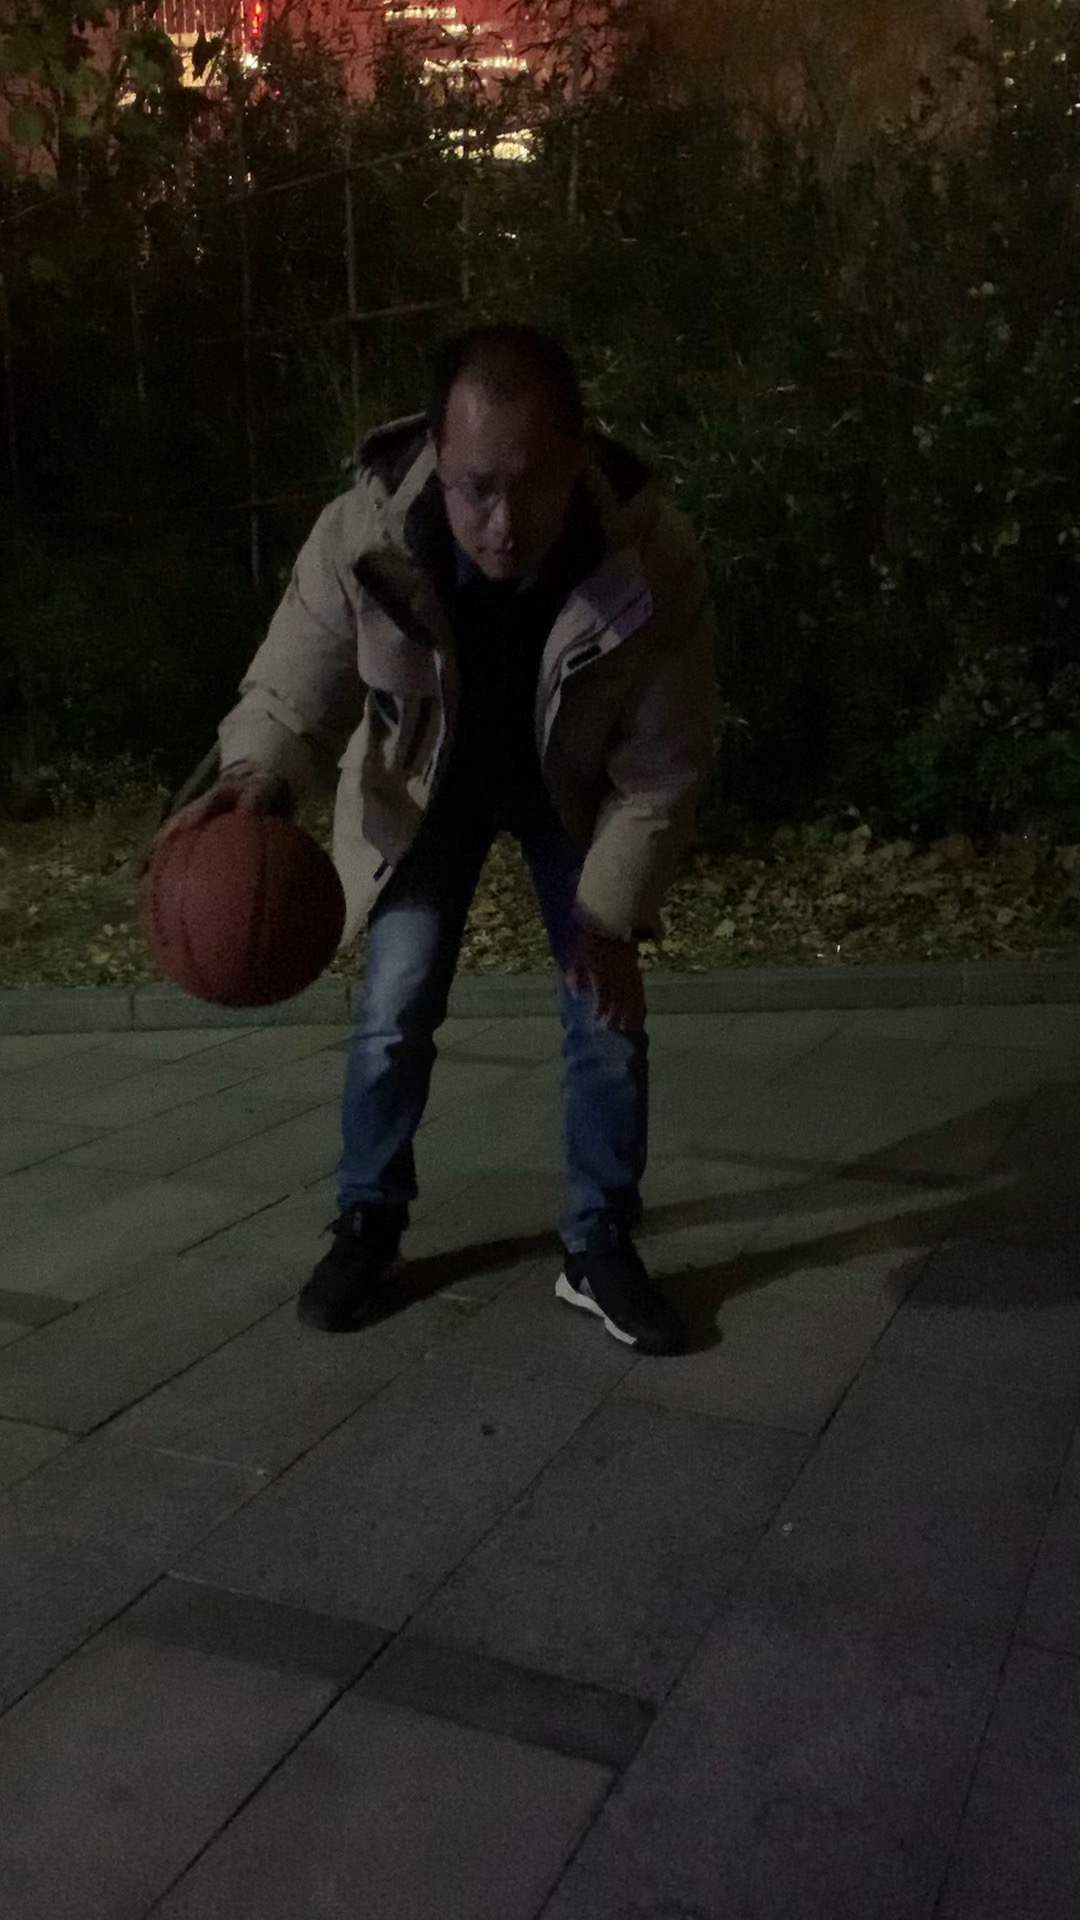ball: (152, 812, 348, 1010)
